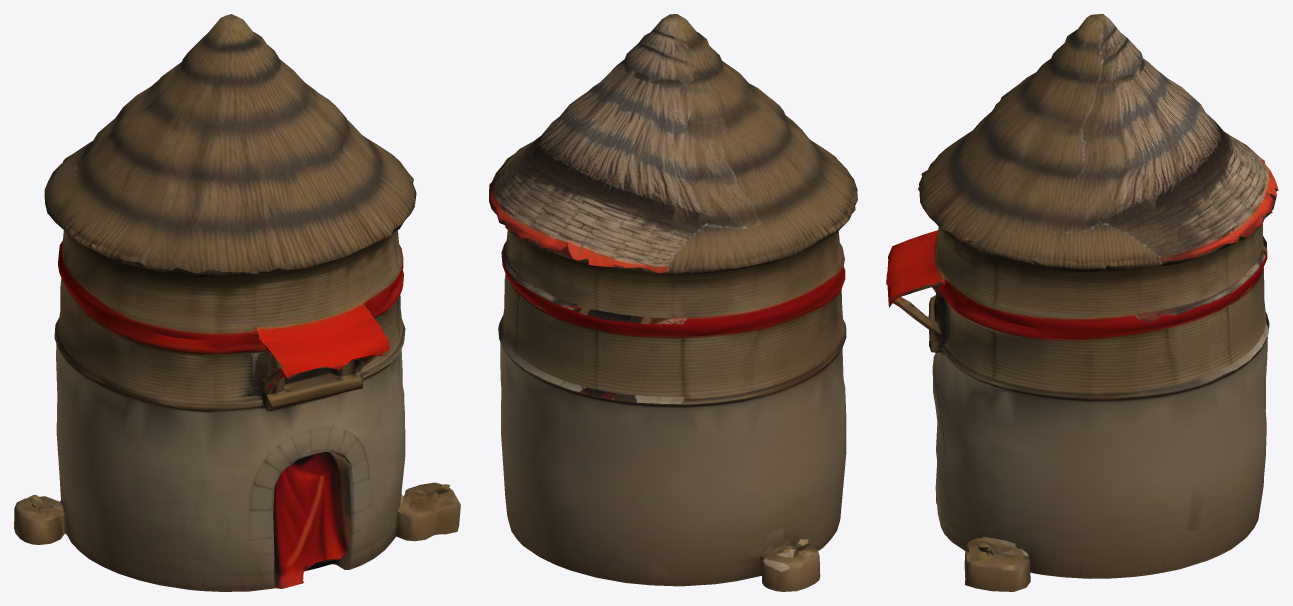
The model's file is etiopia_almacen_alimento.glb.
3 views of the same model, side by side, from view 1: azimuth 30°, elevation 25°; view 2: azimuth 150°, elevation 25°; view 3: azimuth 270°, elevation 25° (orthographic). The views are drawn at different scales.
Visible parts, largest first — view 1: geometry_0; view 2: geometry_0; view 3: geometry_0.
Boxes of the visible parts, x1=… form: geometry_0: x1=14, y1=14, x2=460, y2=591; geometry_0: x1=489, y1=14, x2=857, y2=591; geometry_0: x1=886, y1=14, x2=1278, y2=591.
Bounding box in the file's own units: 1.4 × 1.92 × 1.39.
1 material, 1 textured.
